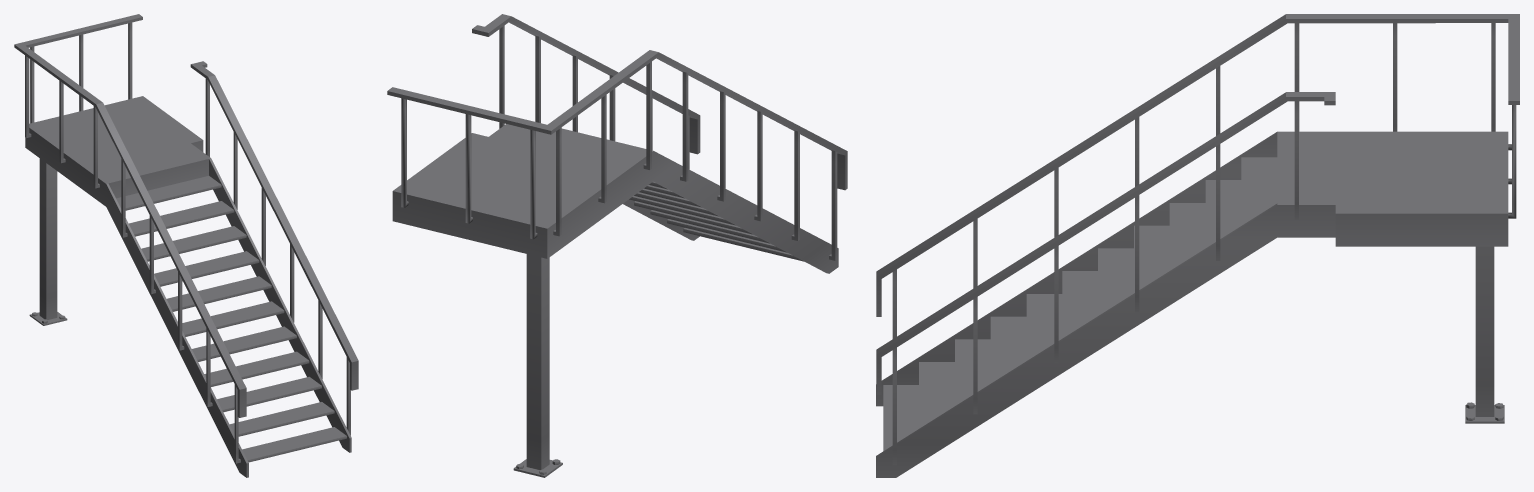
Rendered from x_metallic_stairs_with_platform.fbx.
The picture shows the model from 3 angles, left to right: view 1: azimuth 30°, elevation 25°; view 2: azimuth 150°, elevation 25°; view 3: azimuth 270°, elevation 25°; orthographic projection. The views are drawn at different scales.
Parts seen in each view (by area): view 1: t_metallic_stairs_with_platform_baked; view 2: t_metallic_stairs_with_platform_baked; view 3: t_metallic_stairs_with_platform_baked.
Part boxes in pixels (<box>): t_metallic_stairs_with_platform_baked: <box>14,14,358,477</box>; t_metallic_stairs_with_platform_baked: <box>387,14,847,477</box>; t_metallic_stairs_with_platform_baked: <box>876,14,1519,477</box>.
Bounding box in the file's own units: 1.78 × 3.68 × 5.57.
